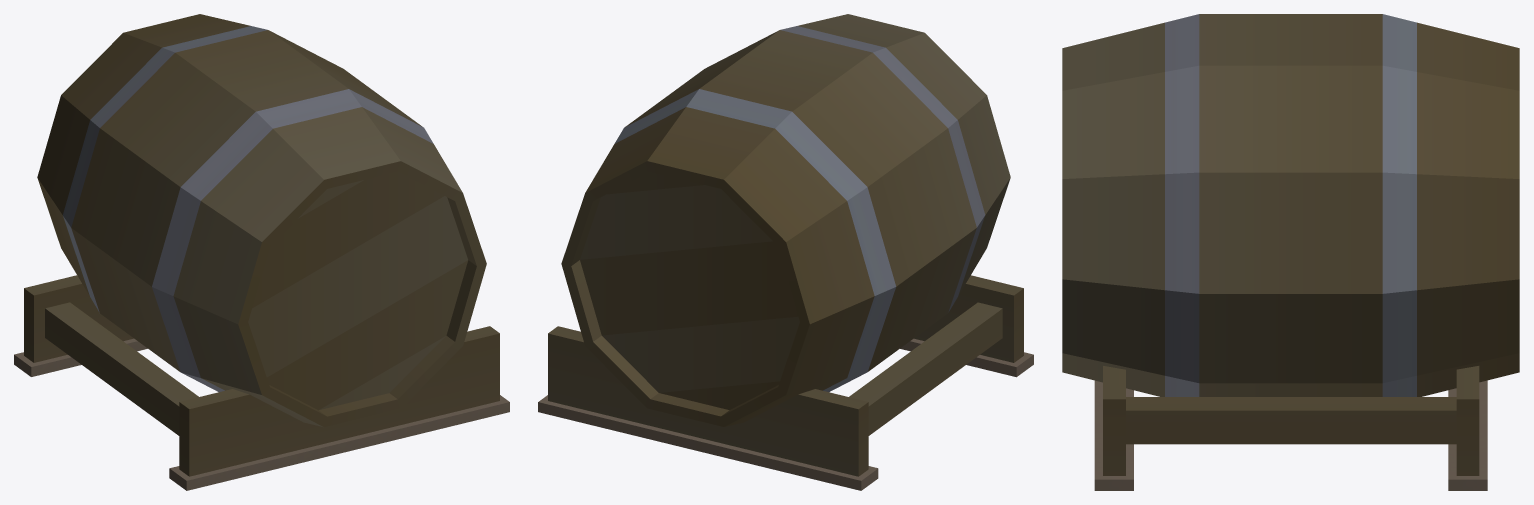
File: Barrel_2A_LOD1.fbx
3 renders of one model, left to right at view 1: azimuth 30°, elevation 25°; view 2: azimuth 150°, elevation 25°; view 3: azimuth 270°, elevation 25°, orthographic. The views are drawn at different scales.
Parts seen in each view (by area): view 1: polySurface9639; view 2: polySurface9639; view 3: polySurface9639.
Part boxes in pixels (<box>): polySurface9639: <box>14,14,509,490</box>; polySurface9639: <box>538,14,1033,490</box>; polySurface9639: <box>1062,14,1519,490</box>.
Size of the model in its own units: 156 by 147 by 168.
